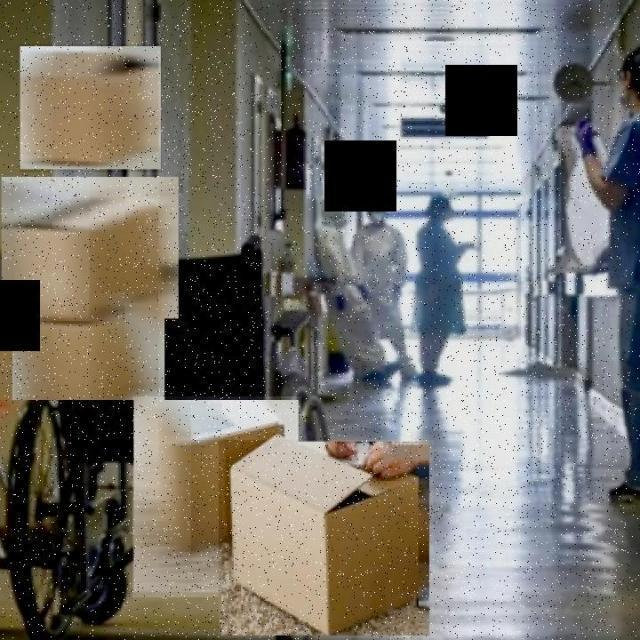box: (218, 440, 434, 638), (132, 397, 302, 598), (0, 175, 181, 321), (20, 44, 162, 172), (10, 304, 169, 404)
